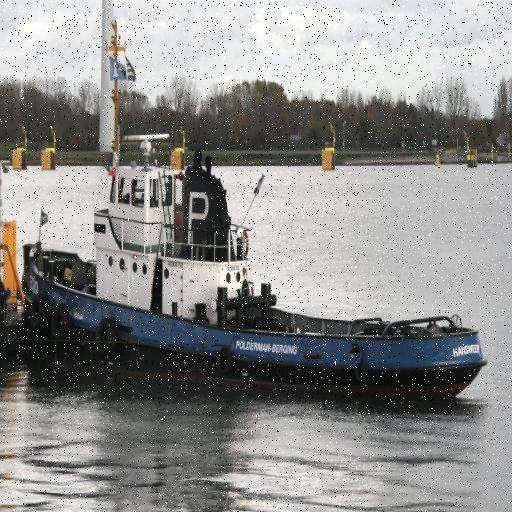tugboat: (19, 130, 493, 416)
